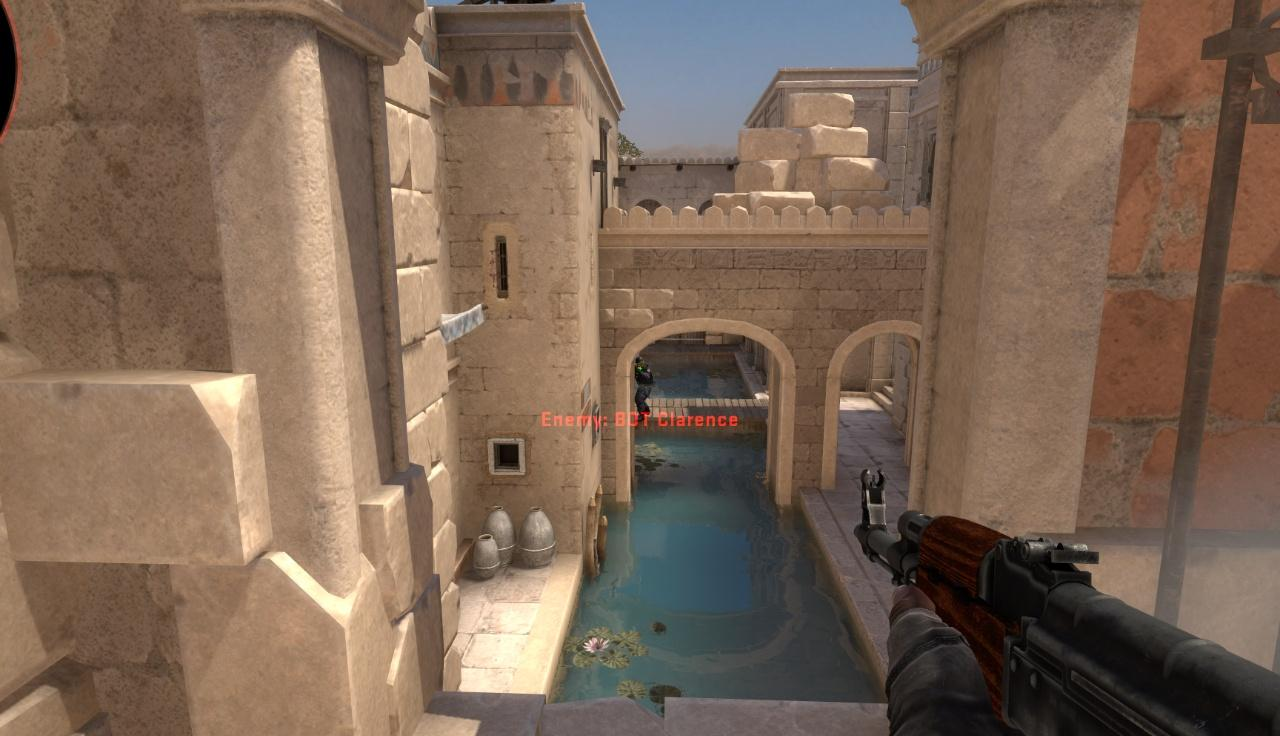ct: (634, 359, 654, 416)
cthead: (636, 358, 645, 370)
rifle: (862, 474, 1280, 736)
